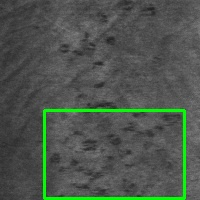rolled-in_scale: (44, 110, 184, 198), (57, 22, 122, 134)
